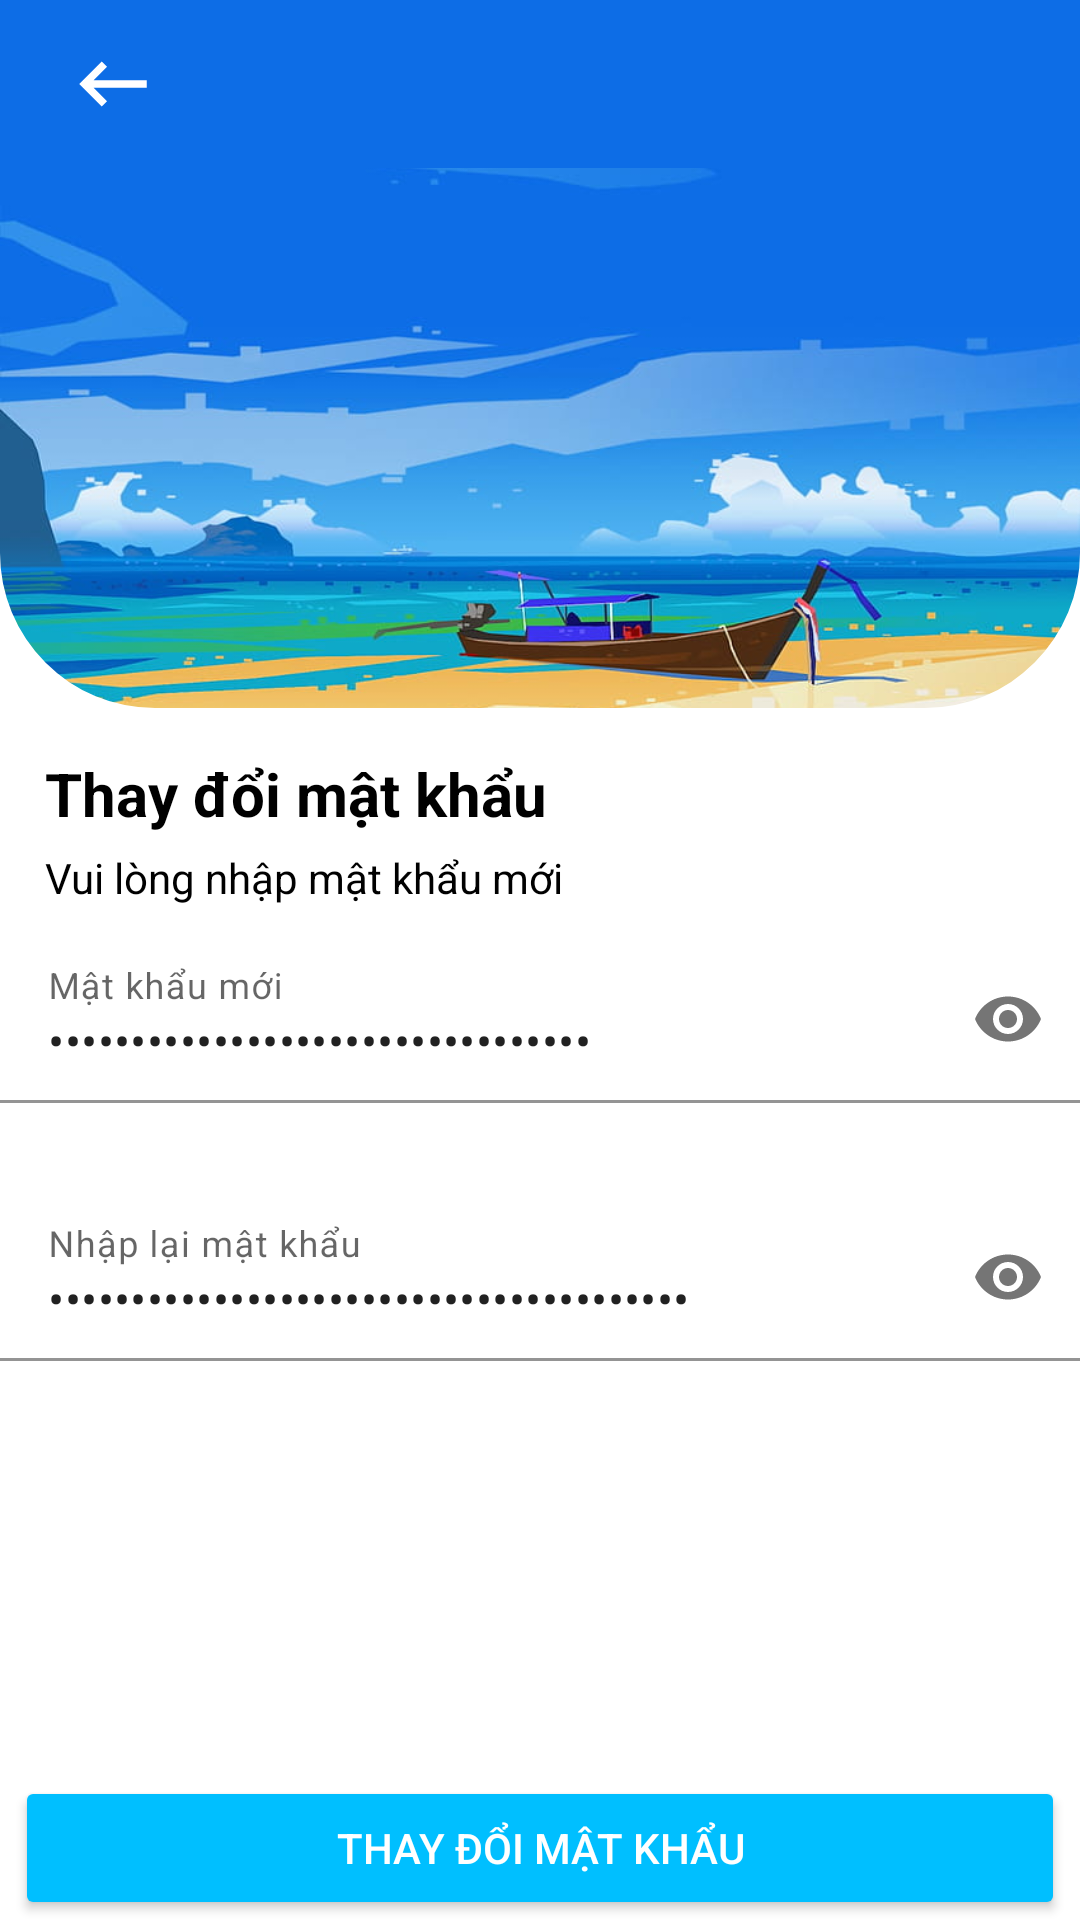

Screen size 1080w x 1920h. Icon name, then its box in pixels as [x1, y1, x2, y2]:
Back: [79, 61, 147, 107]
